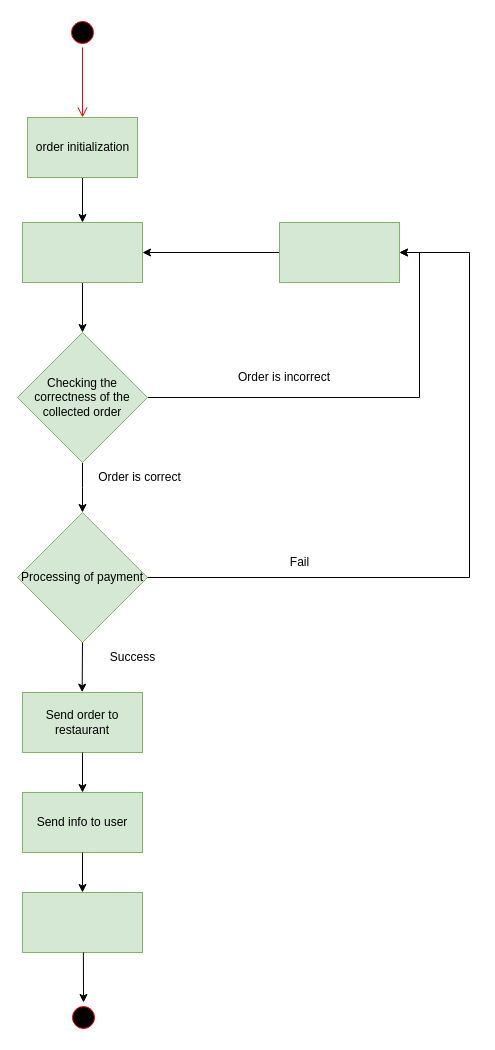
Image size: 495x1050. Some labels were removed from this diagram. The box of each missing label's shape, as (x1, y1, x2, y2) in pixels:
order correction: (278, 222, 400, 282)
order is made: (22, 222, 142, 282)
Wait for receiving: (22, 892, 142, 952)
